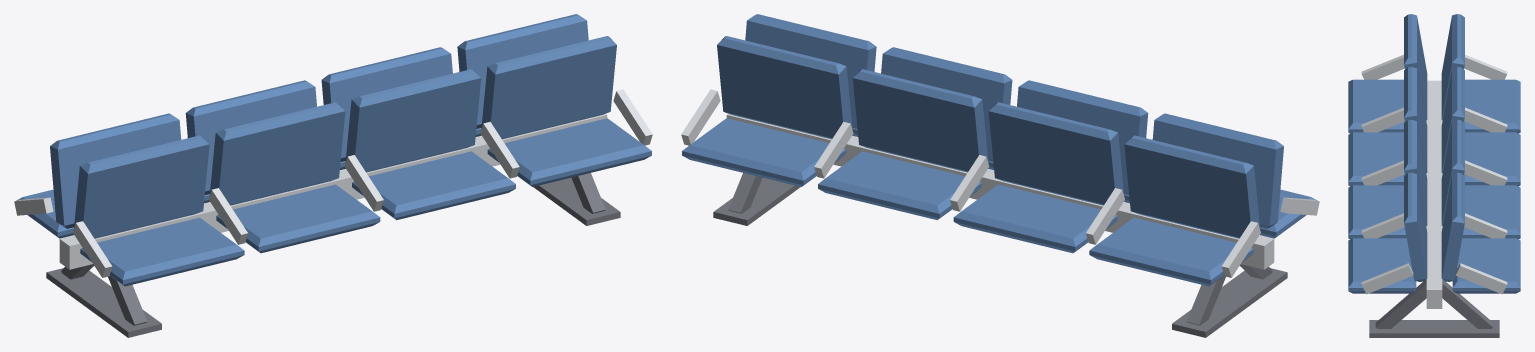
Rendered from airport-terminal-and-ground-operations-gate-seating-ro-f5ea1800__26041.glb.
The picture shows the model from 3 angles, left to right: view 1: azimuth 30°, elevation 25°; view 2: azimuth 150°, elevation 25°; view 3: azimuth 270°, elevation 25°; orthographic projection. The views are drawn at different scales.
Parts seen in each view (by area): view 1: gate-seating-row-back-to-back; view 2: gate-seating-row-back-to-back; view 3: gate-seating-row-back-to-back.
Part boxes in pixels (bbox=[...]): gate-seating-row-back-to-back: bbox=[14, 14, 652, 337]; gate-seating-row-back-to-back: bbox=[681, 14, 1319, 337]; gate-seating-row-back-to-back: bbox=[1348, 14, 1520, 337].
Bounding box in the file's own units: 3.87 × 1.09 × 1.32.
